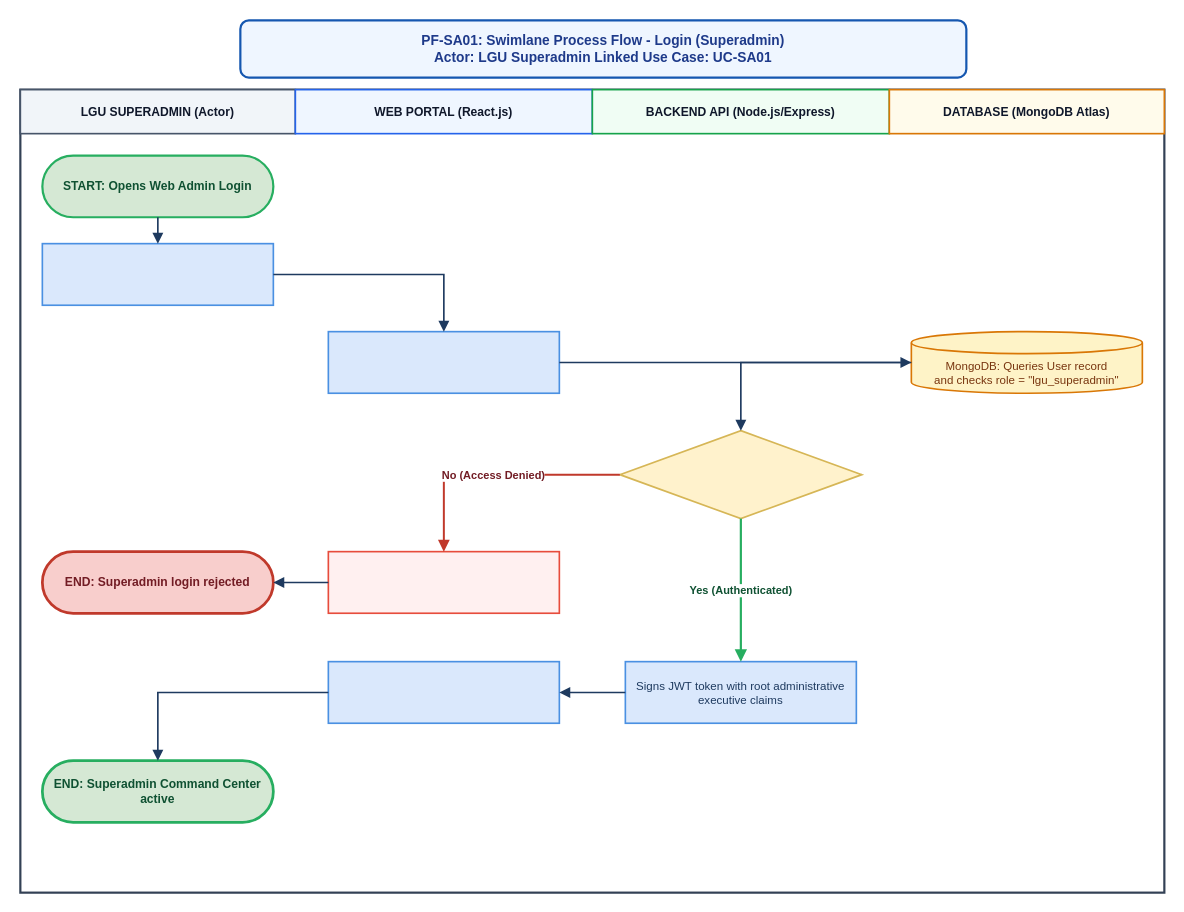
The diagram is 1184 pixels wide and 912 high, and some of its shapes have lost their labels. Each missing label, with the centre of its shape:
Displays "Invalid Credentials / Access Denied" alert banner: (443,582)
Enters Superadmin root credentials & password Clicks "Sign In": (157,274)
Password valid & role is lgu_superadmin?: (740,474)
Saves token in localStorage; Unlocks Executive Dashboard, Heatmap, & Policy: (443,692)
Web Portal sends POST /api/auth/login request with root credentials payload: (443,362)
